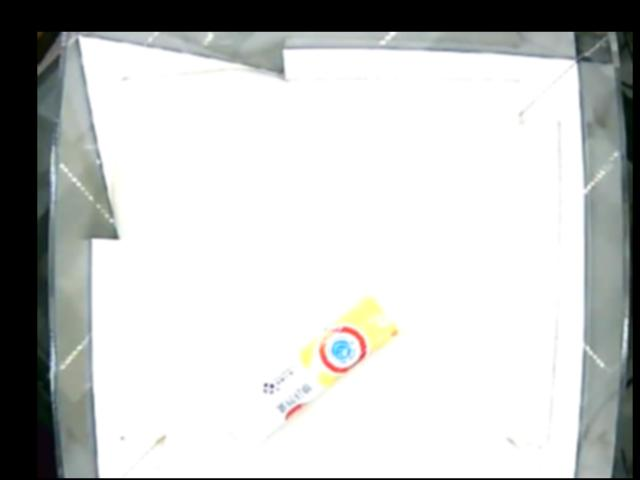Medicine: (218, 284, 417, 444)
